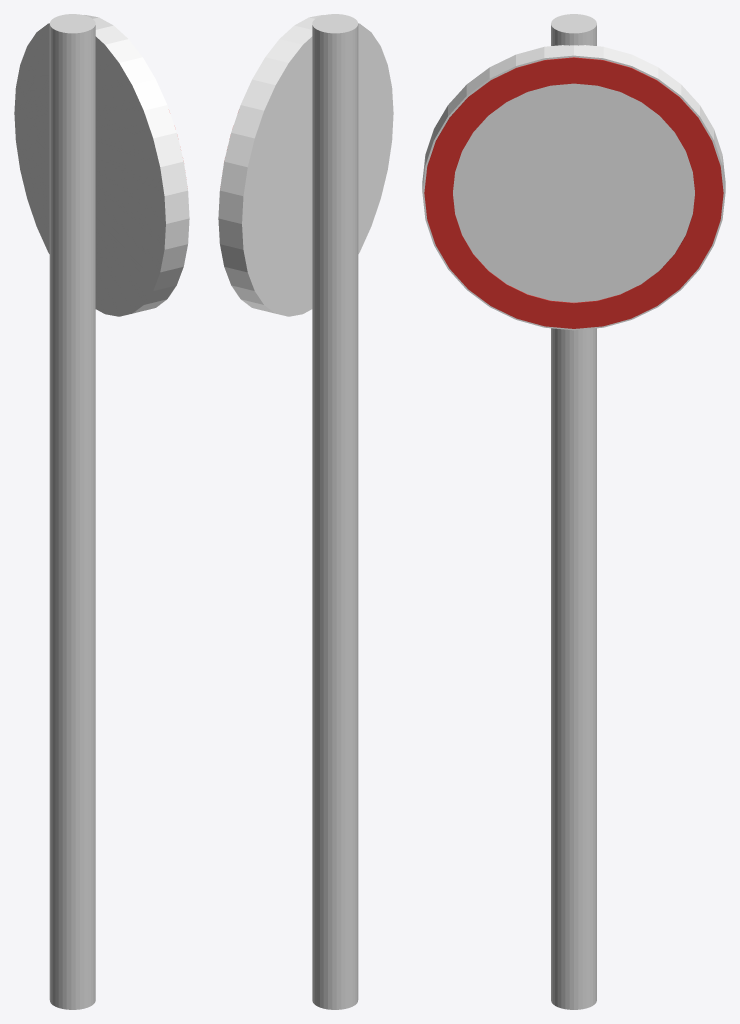
File: SignTrafficProhibitedBothWays.fbx
The picture shows the model from 3 angles, left to right: view 1: azimuth 30°, elevation 25°; view 2: azimuth 150°, elevation 25°; view 3: azimuth 270°, elevation 25°; orthographic projection.
Visible parts, largest first — view 1: Cylinder.016, SignCircle.020; view 2: Cylinder.016, SignCircle.020; view 3: SignCircle.020, Cylinder.016, SignCircle.021.
Boxes of the visible parts, x1,y1,x2,y2 form: Cylinder.016: [49, 14, 95, 1009]; SignCircle.020: [14, 15, 189, 316]; Cylinder.016: [312, 14, 358, 1009]; SignCircle.020: [218, 15, 393, 316]; SignCircle.020: [422, 45, 725, 330]; Cylinder.016: [551, 14, 596, 1009]; SignCircle.021: [424, 57, 723, 328].
Size of the model in its own units: 111 by 1671 by 470.
